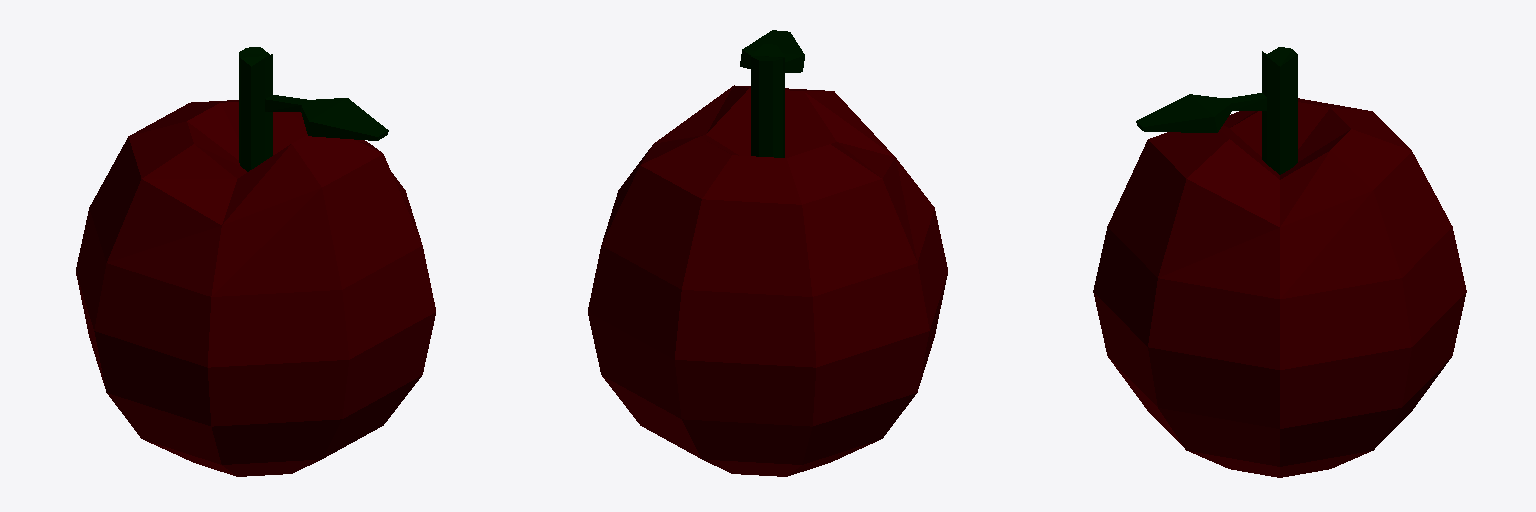
The model's file is apple_clr.obj.
3 renders of one model, left to right at view 1: azimuth 30°, elevation 25°; view 2: azimuth 150°, elevation 25°; view 3: azimuth 270°, elevation 25°, orthographic.
Parts seen in each view (by area): view 1: Apple; view 2: Apple; view 3: Apple.
Part boxes in pixels (x1,y1,x2,y2): Apple: (76,47,435,476); Apple: (588,30,947,476); Apple: (1093,47,1466,477).
Size of the model in its own units: 2.43 by 2.94 by 2.43.